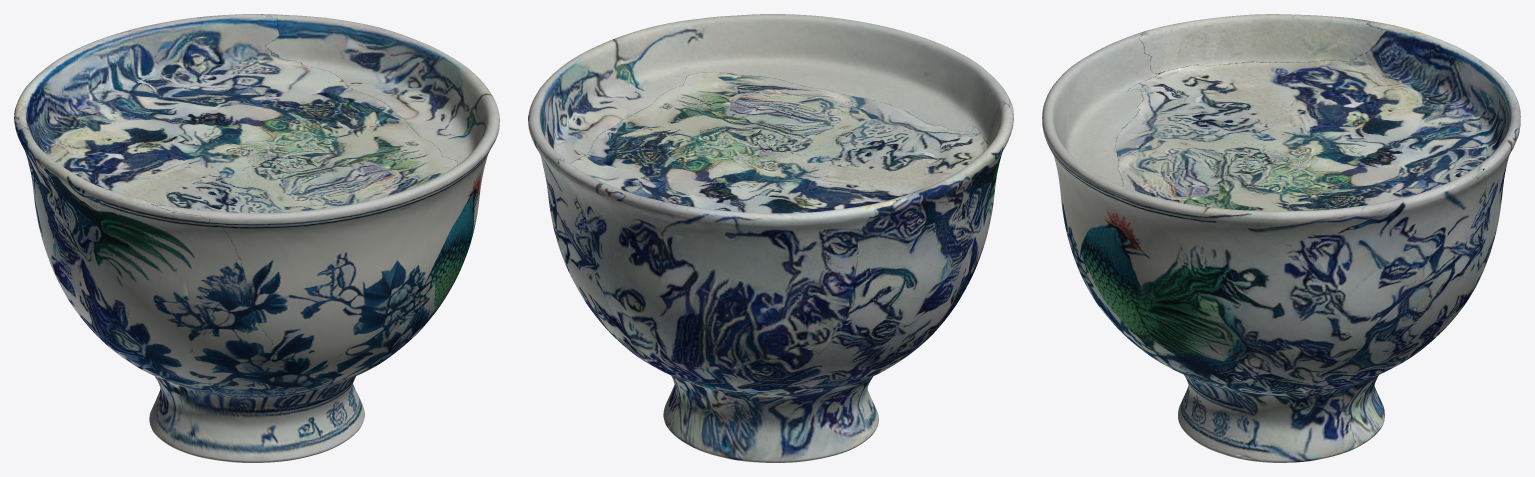
File: texgen_sd_13w.glb
The picture shows the model from 3 angles, left to right: view 1: azimuth 30°, elevation 25°; view 2: azimuth 150°, elevation 25°; view 3: azimuth 270°, elevation 25°; orthographic projection.
Visible parts, largest first — view 1: texture_v128_amrb_13w_cfg2_hdr; view 2: texture_v128_amrb_13w_cfg2_hdr; view 3: texture_v128_amrb_13w_cfg2_hdr.
Boxes of the visible parts, x1,y1,x2,y2 form: texture_v128_amrb_13w_cfg2_hdr: (14,14,499,462); texture_v128_amrb_13w_cfg2_hdr: (528,14,1013,462); texture_v128_amrb_13w_cfg2_hdr: (1042,14,1520,462).
Bounding box in the file's own units: 2 × 1.41 × 2.
Materials: 1 (1 with a texture image).
